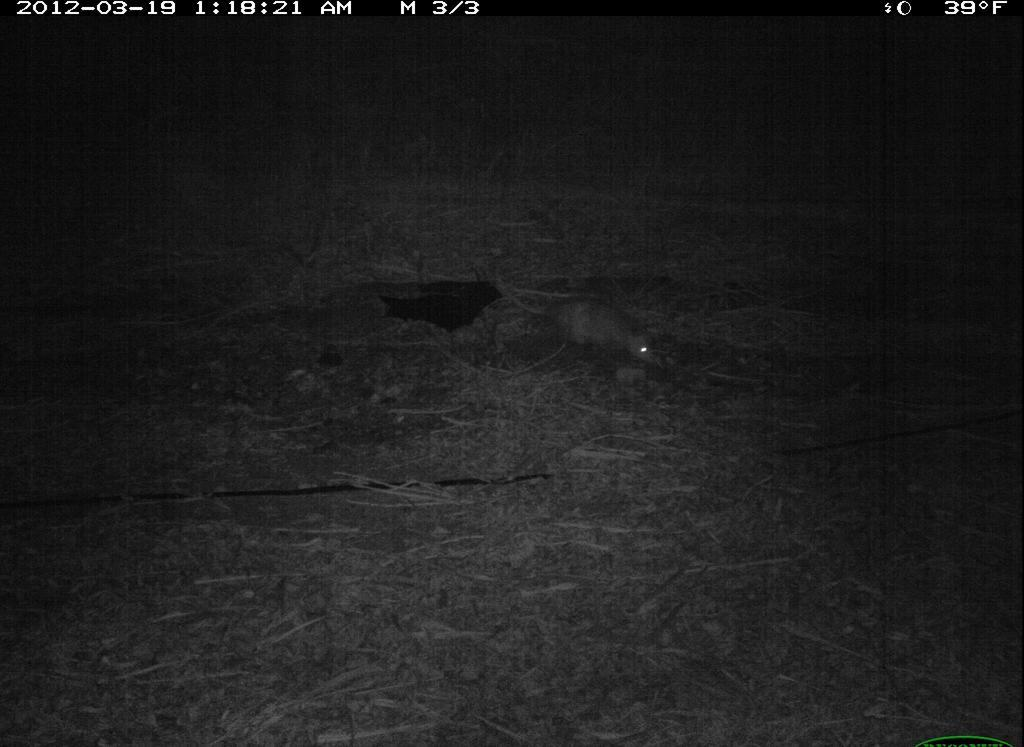opossum: (483, 268, 713, 383)
